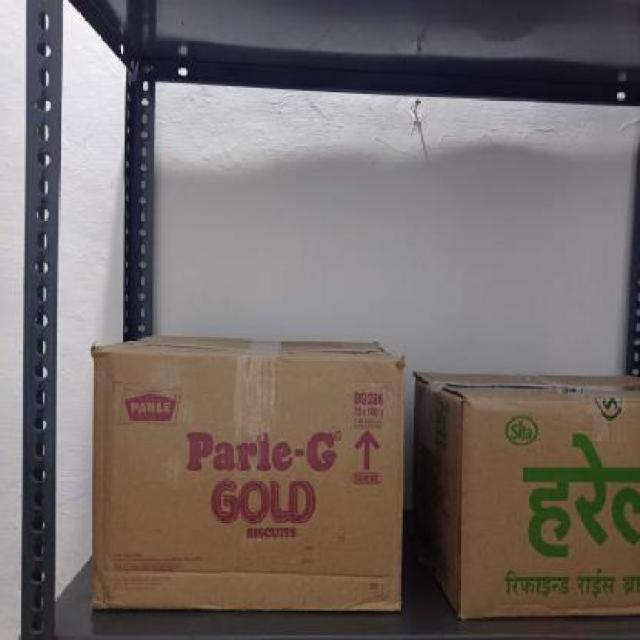box: (91, 347, 405, 613), (458, 399, 640, 613)
